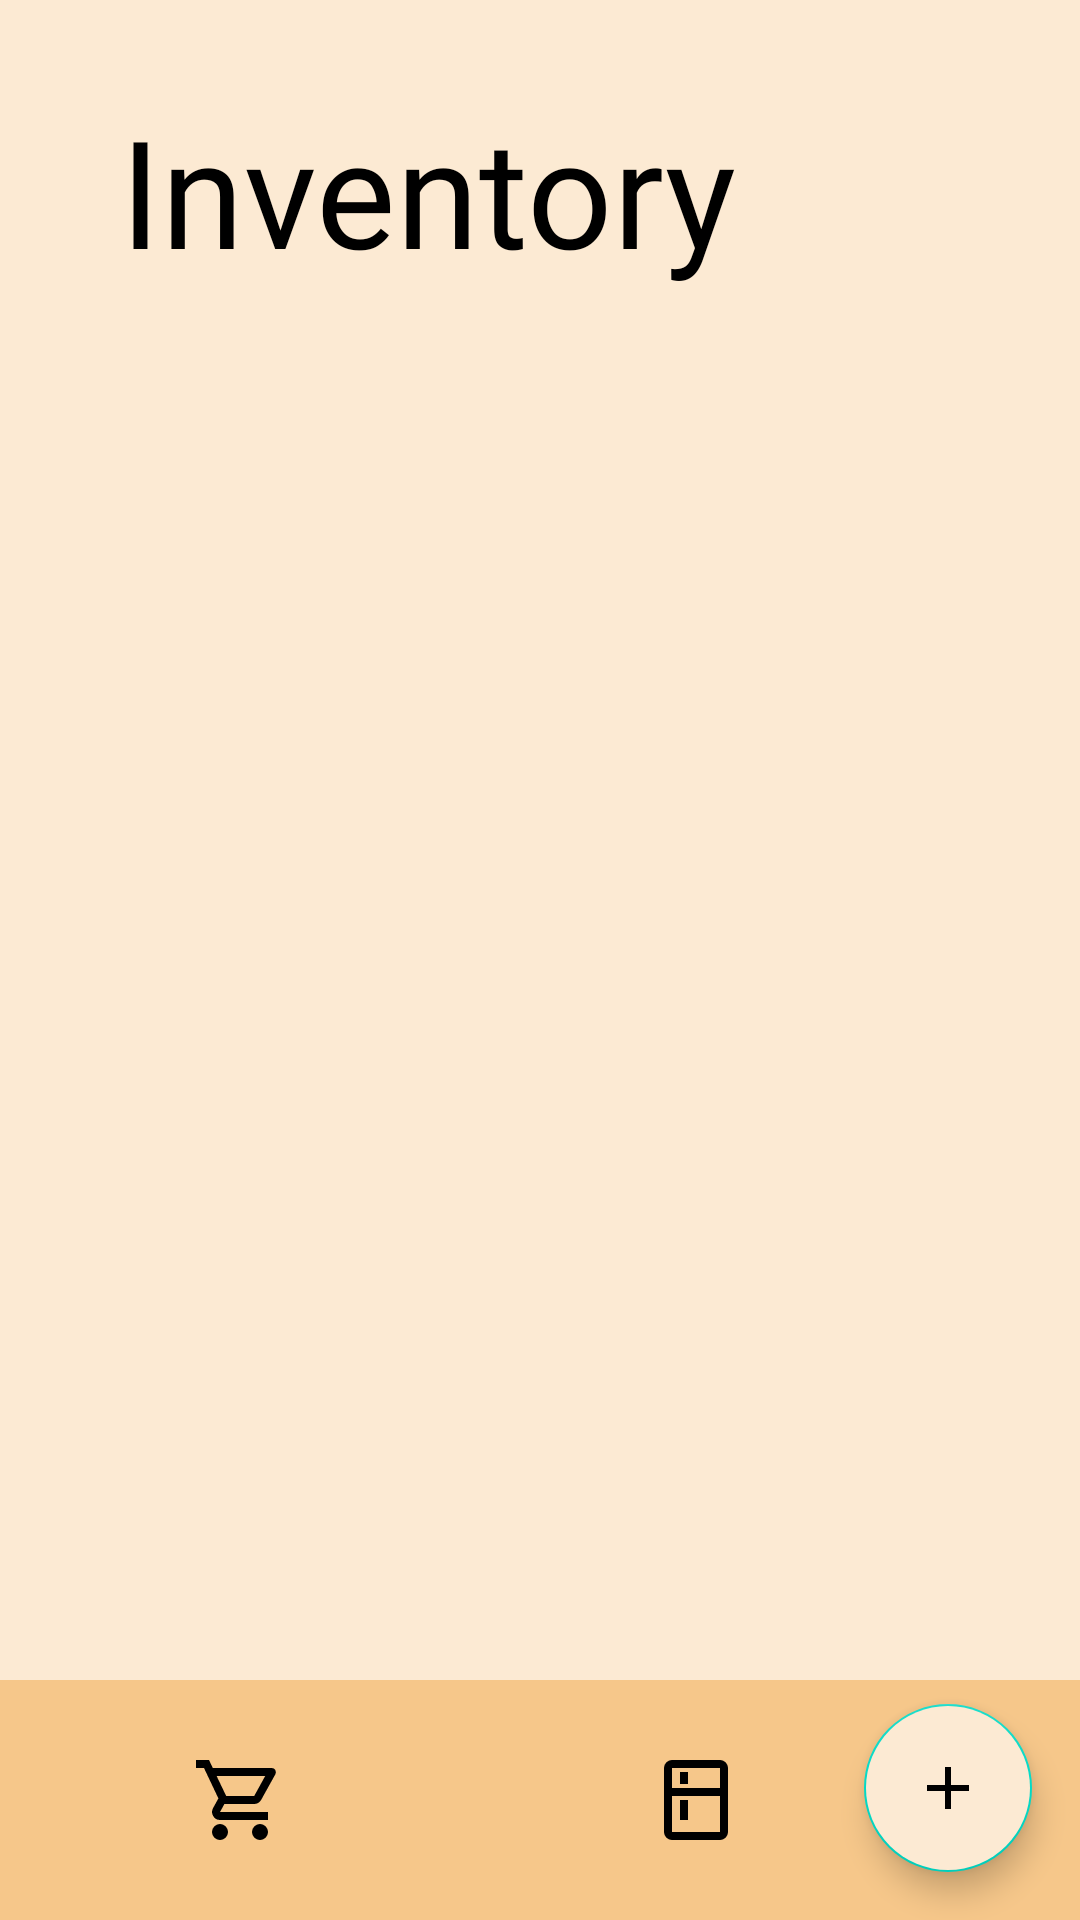

Named icons in this screenshot (1080 x 1920) and their bounding boxes, (x1, y1, x2, y2):
This will quickly add an item to the primary grocery list: (864, 1704, 1032, 1872)
